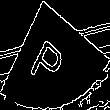P_NE: (33, 23, 77, 87)
